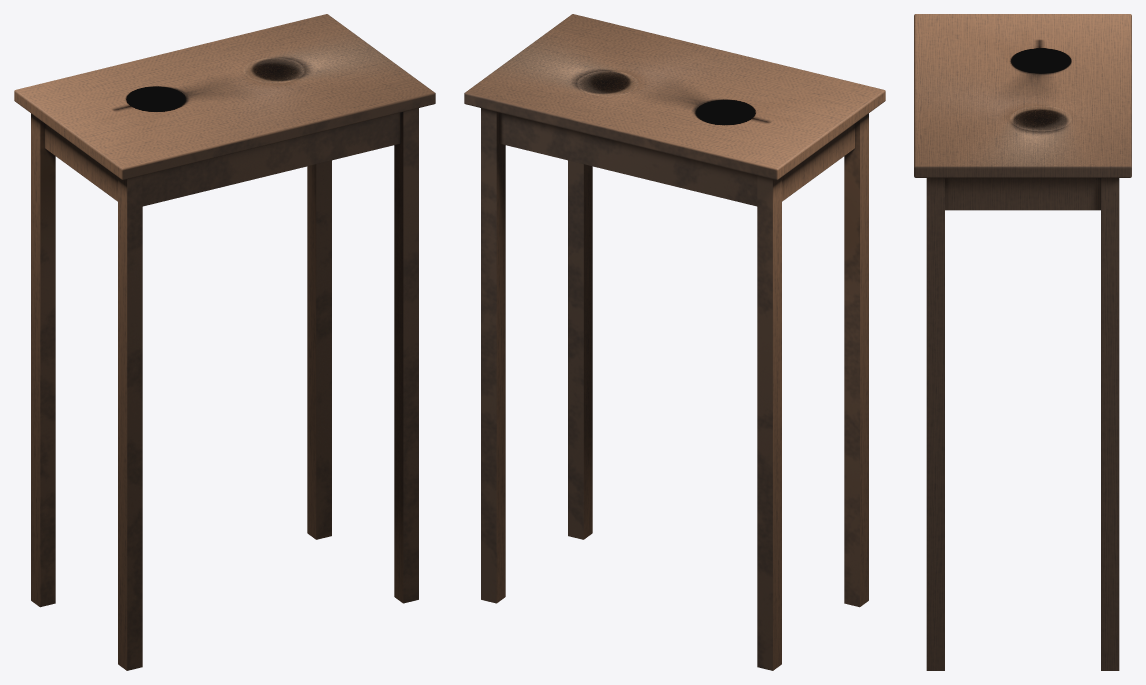
The picture shows the model from 3 angles, left to right: view 1: azimuth 30°, elevation 25°; view 2: azimuth 150°, elevation 25°; view 3: azimuth 270°, elevation 25°; orthographic projection.
Parts seen in each view (by area): view 1: Table; view 2: Table; view 3: Table.
Part boxes in pixels (box(x1,y1,x2,y2)): Table: box(14, 14, 435, 670); Table: box(464, 14, 885, 670); Table: box(914, 14, 1131, 670).
Size of what is drawn, in the model's own units: 2 by 3.1 by 1.2.
1 material, 1 textured.
